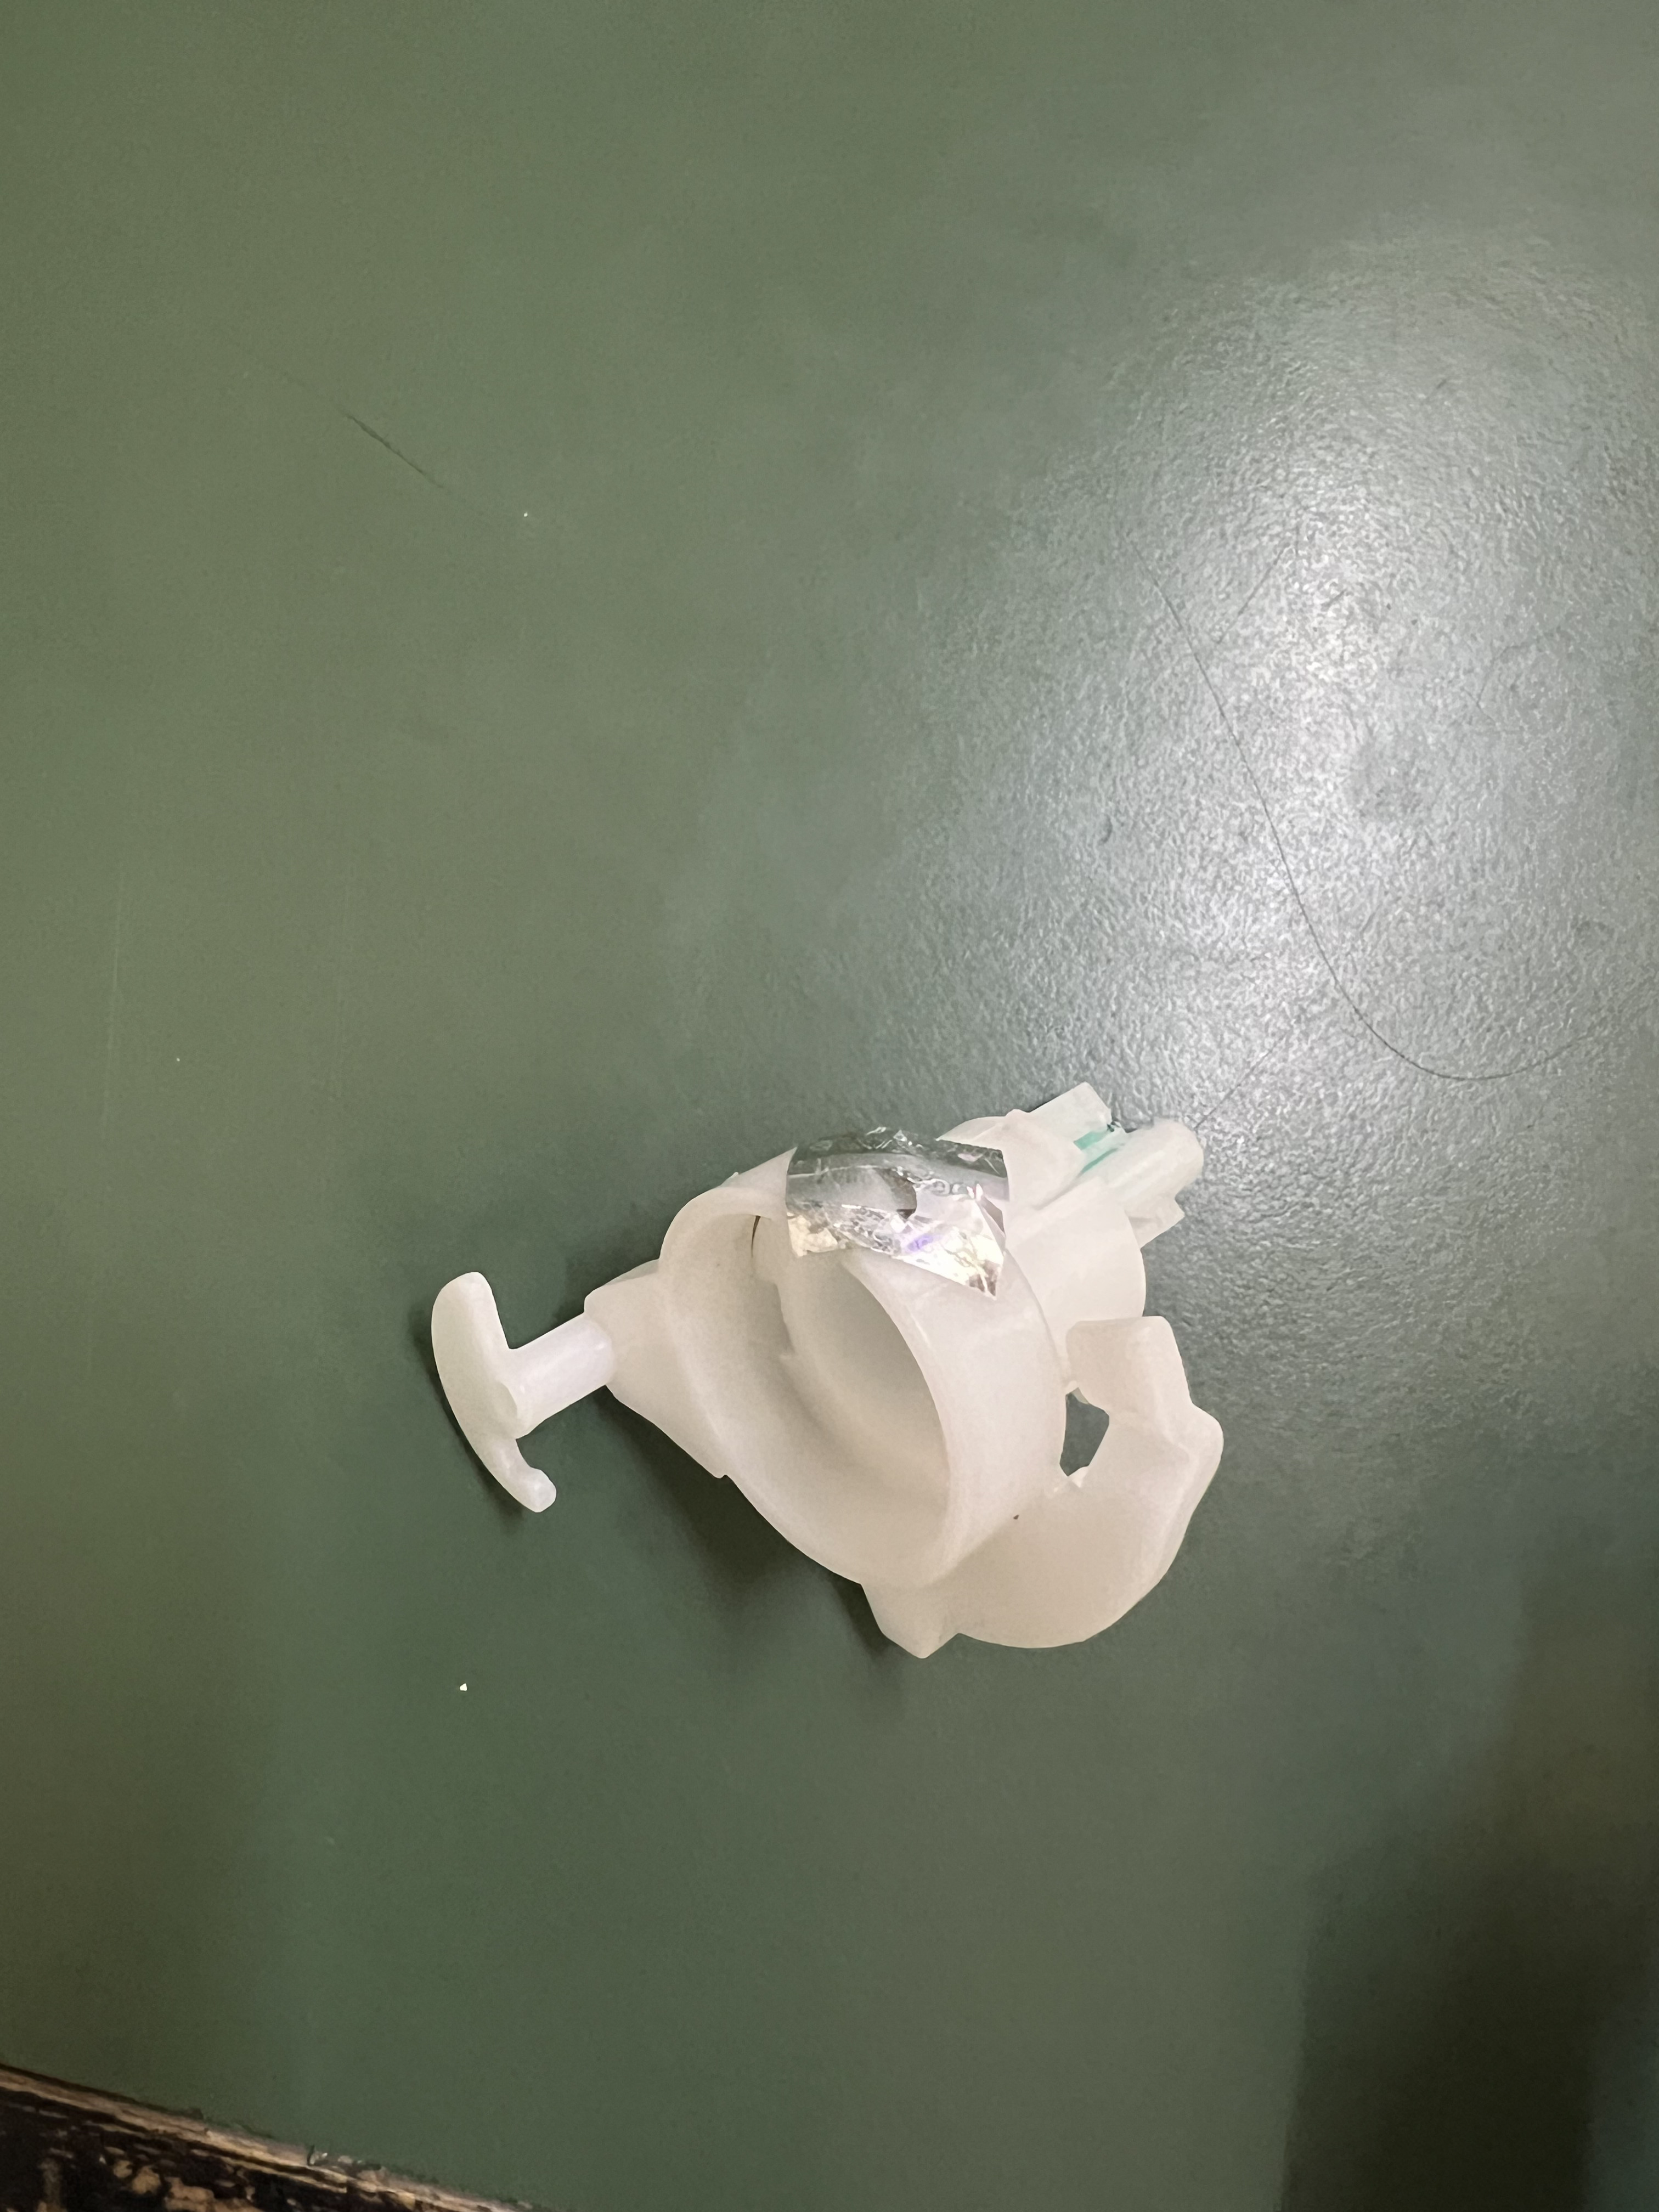drain_lever: (390, 1068, 1251, 1714)
